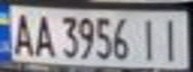3: (57, 12, 78, 60)
5: (93, 14, 115, 61)
6: (109, 14, 136, 62)
9: (75, 12, 96, 60)
A: (6, 9, 36, 57), (30, 11, 57, 58)
I: (154, 15, 187, 62), (136, 15, 163, 62)
